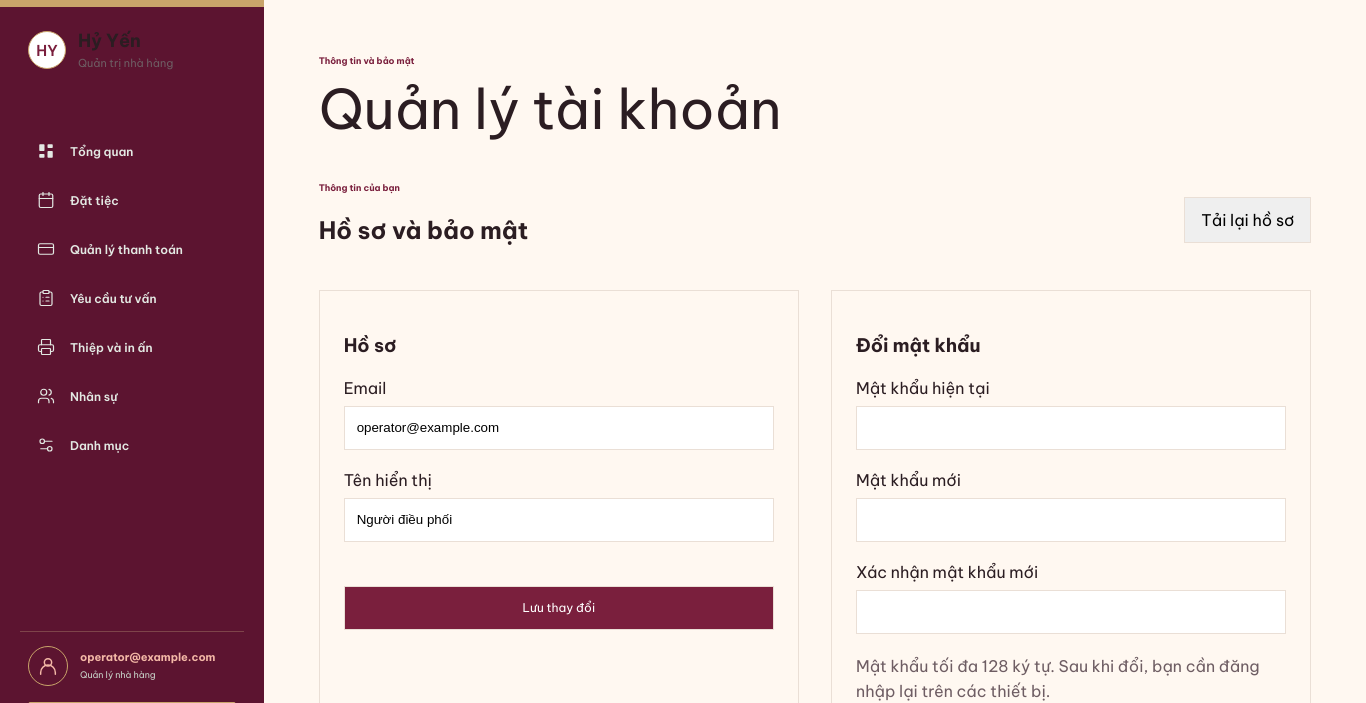
Test: Management account access › removes the local credential and account form after successful password verification
This screenshot has width=1366, height=703.
In the password field labelled "Mật khẩu hiện tại": (1071, 428) [856,406,1286,450], type "Current-password-123"
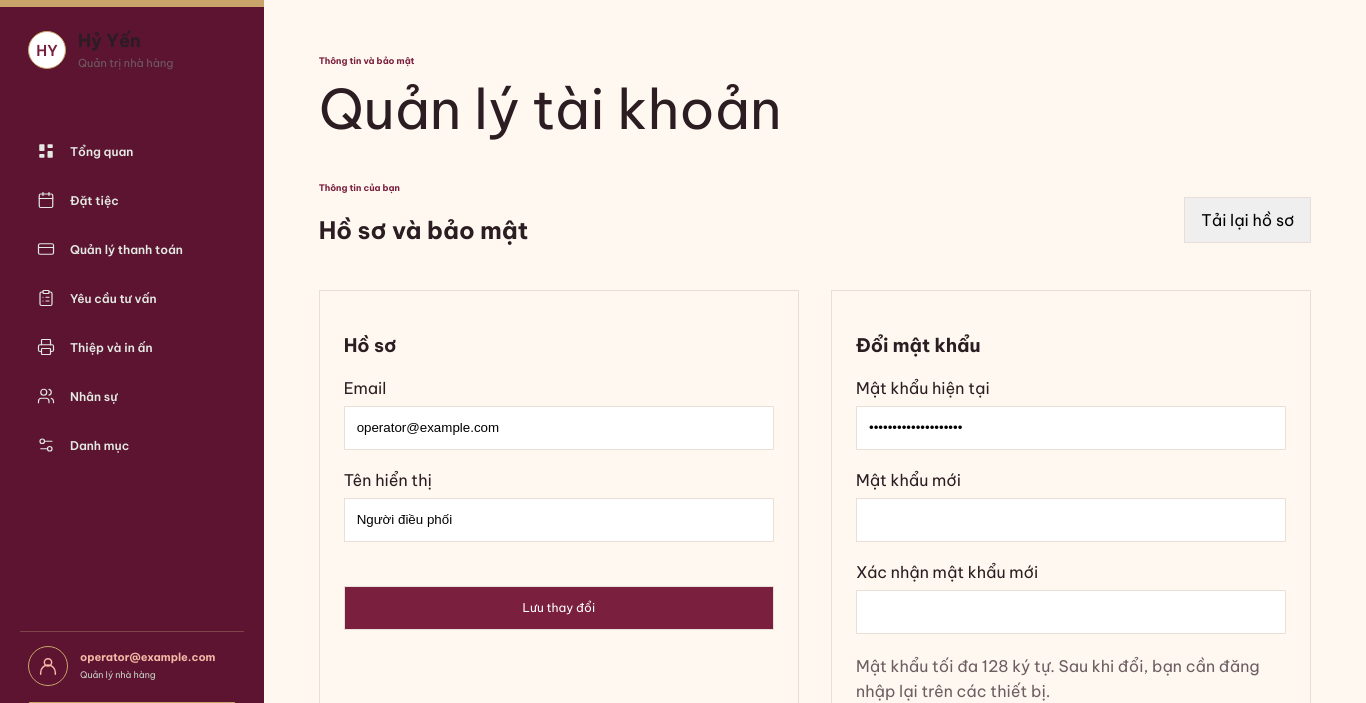
In the password field labelled "Mật khẩu mới": (1071, 520) [856,498,1286,542], type "New-password-123"
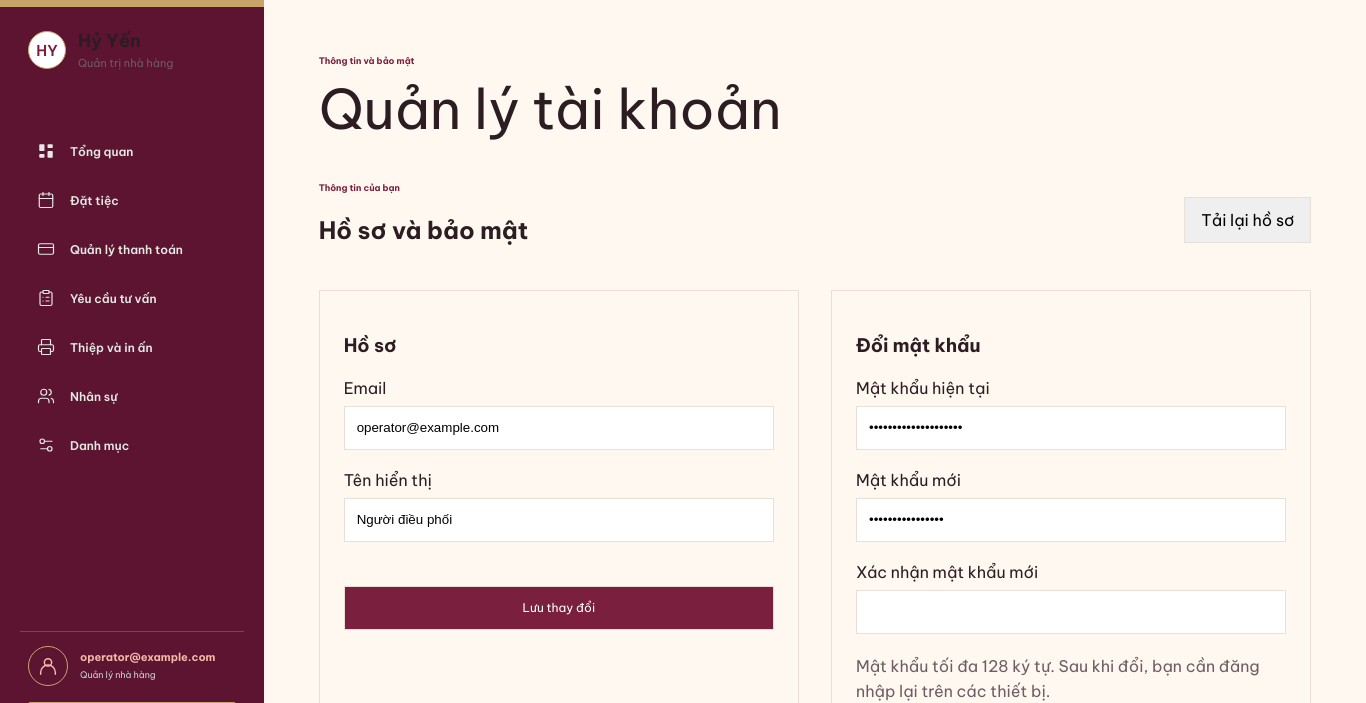
In the password field labelled "Xác nhận mật khẩu mới": (1071, 612) [856,590,1286,634], type "New-password-123"
(page scrolled)
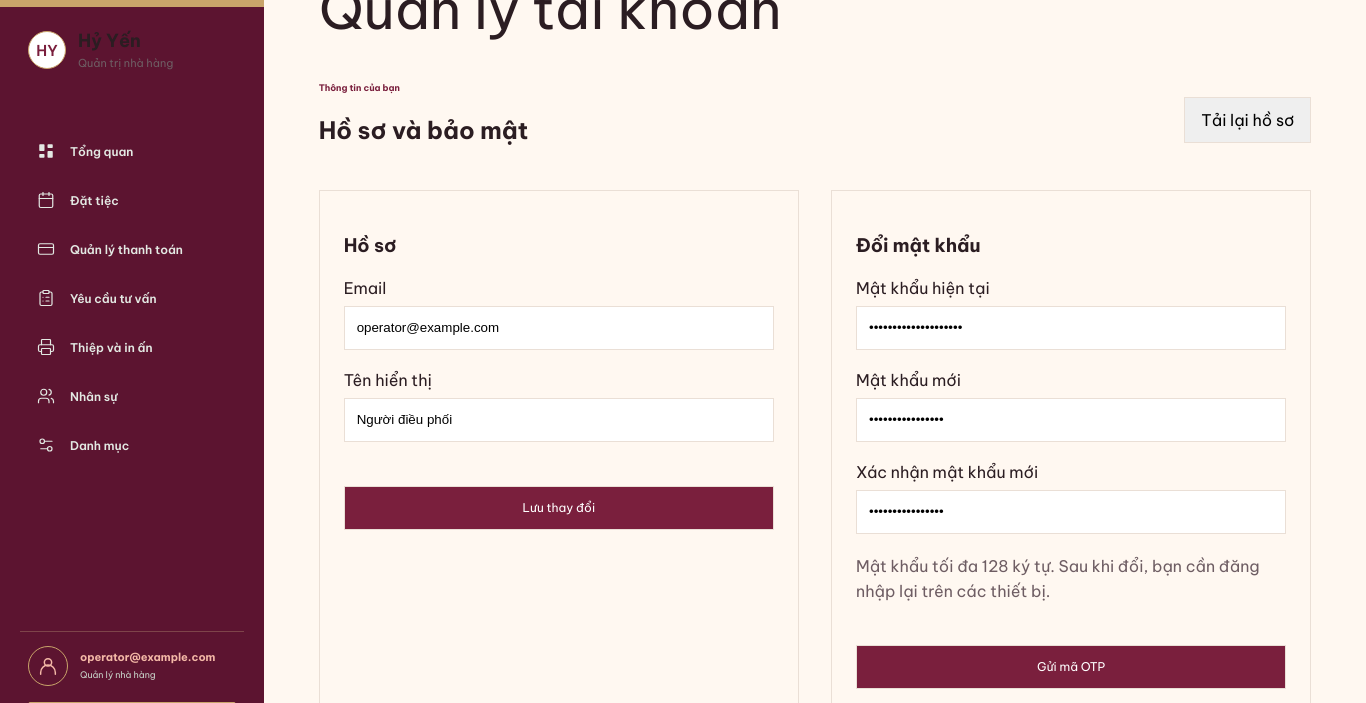
Click the button "Gửi mã OTP": (1071, 667) [856,645,1286,689]
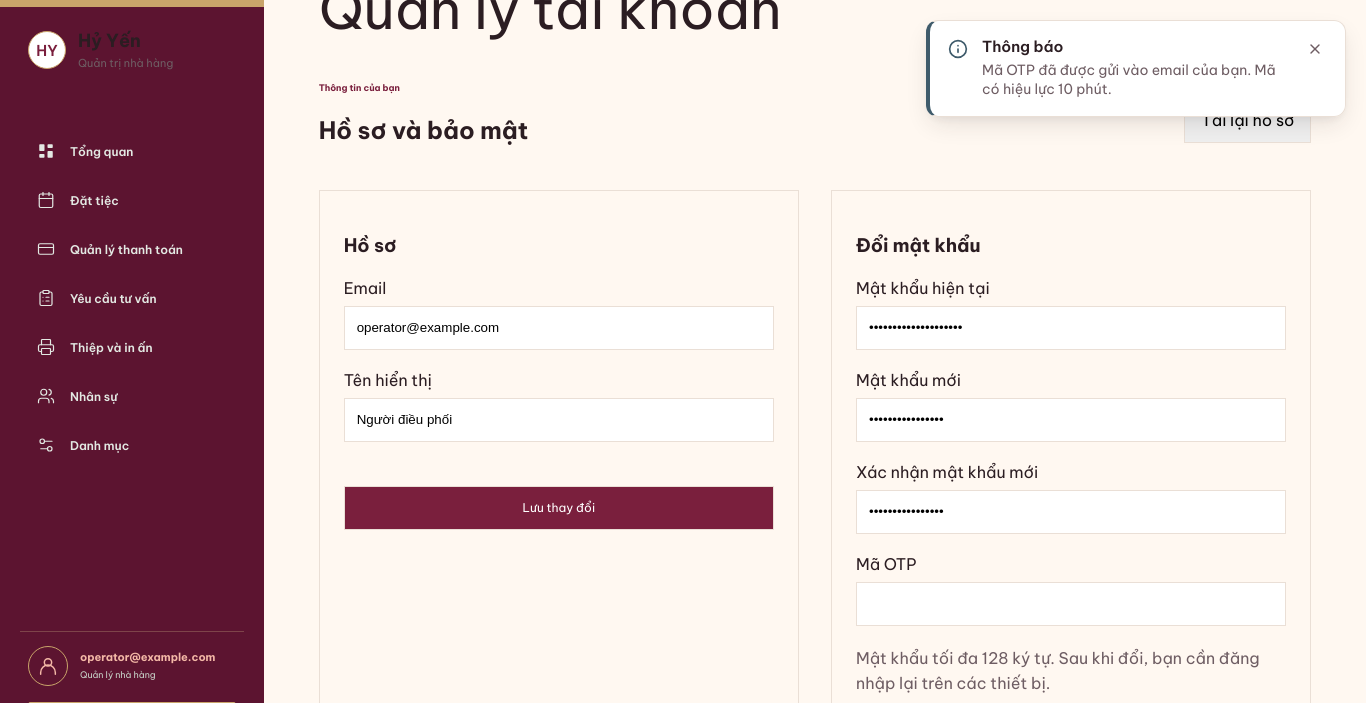
In the field labelled "Mã OTP": (1071, 604) [856,582,1286,626], type "123456"
(page scrolled)
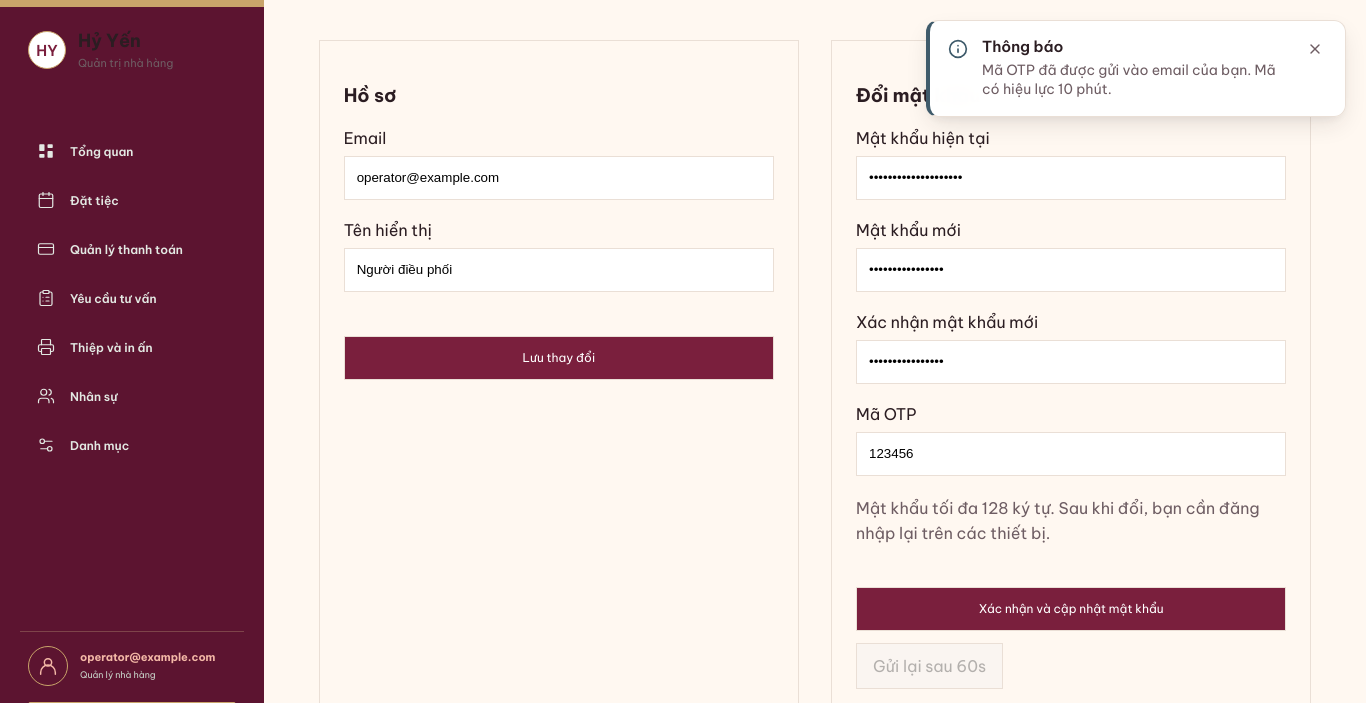
Click the button "Xác nhận và cập nhật mật khẩu": (1071, 609) [856,587,1286,631]
(page scrolled)
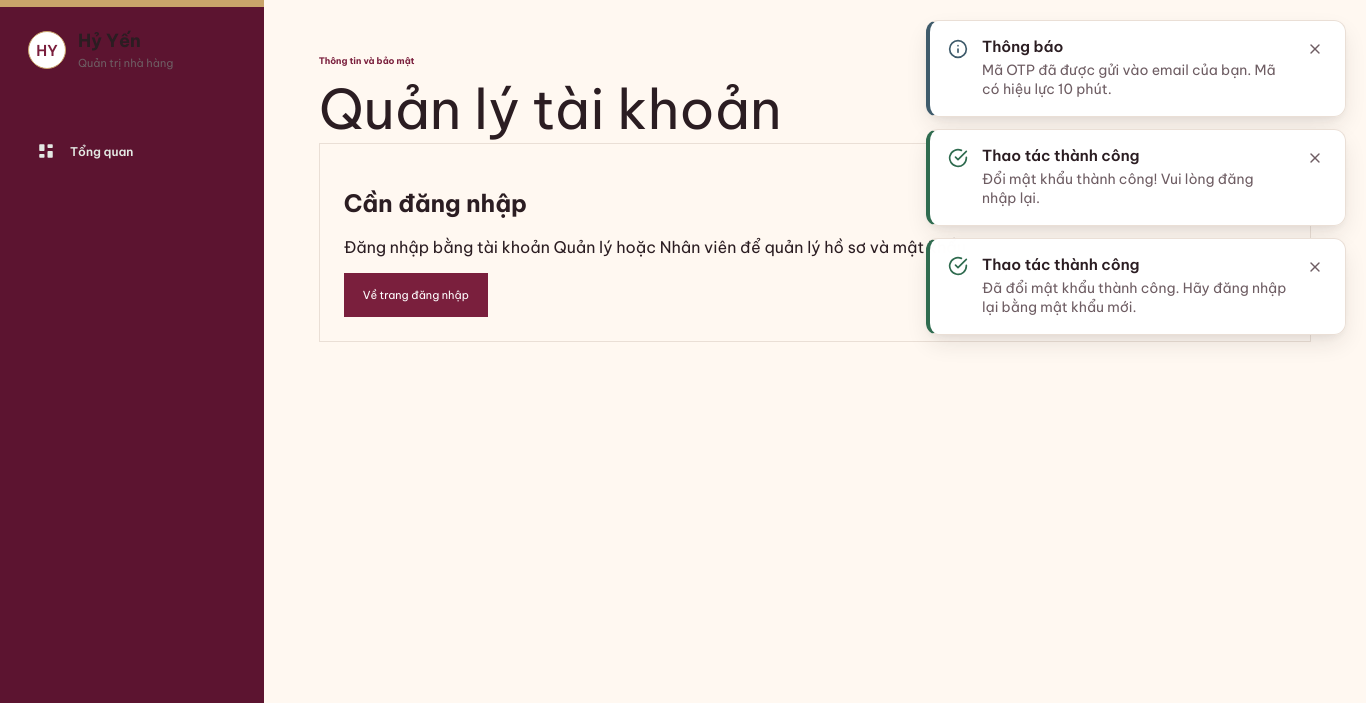
Result: the text "Đã đổi mật khẩu thành công" is shown at [982,279,1286,316]
Result: the label labelled "Mật khẩu hiện tại" is gone
